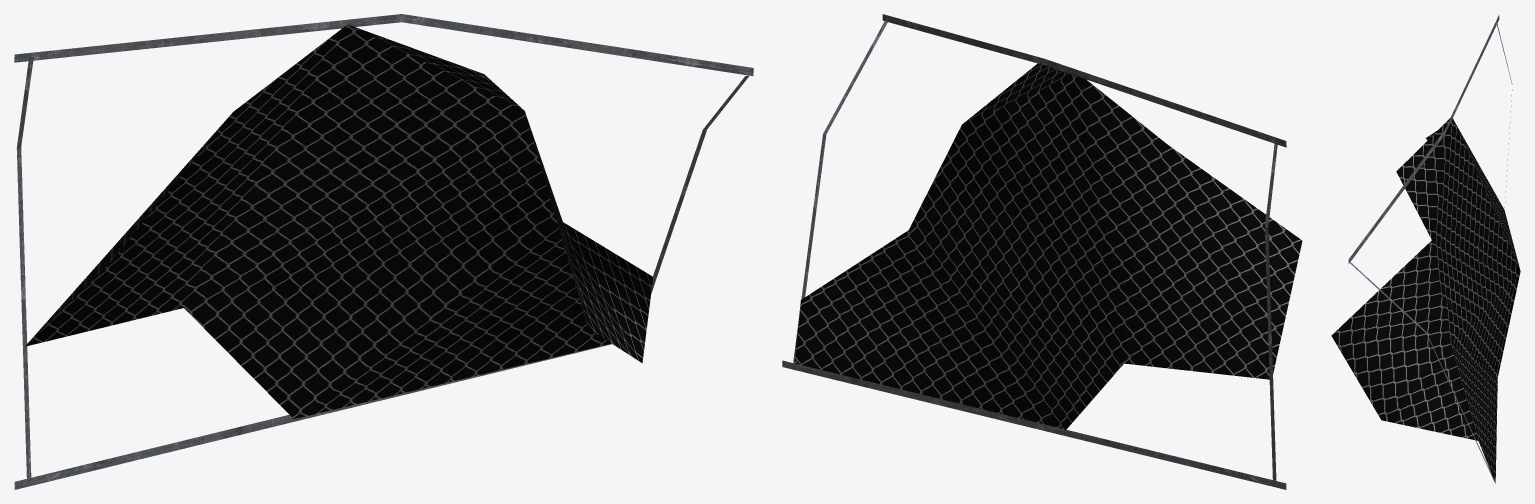
File: Wire3_LOD1.fbx
3 views of the same model, side by side, from view 1: azimuth 30°, elevation 25°; view 2: azimuth 150°, elevation 25°; view 3: azimuth 270°, elevation 25° (orthographic). The views are drawn at different scales.
Parts seen in each view (by area): view 1: polySurface190; view 2: polySurface190; view 3: polySurface190.
Part boxes in pixels (x1,y1,x2,y2): polySurface190: [14, 14, 753, 489]; polySurface190: [782, 14, 1302, 489]; polySurface190: [1331, 15, 1520, 483].
Size of the model in its own units: 4.04 by 2.65 by 1.63.
2 materials, 2 textured.
